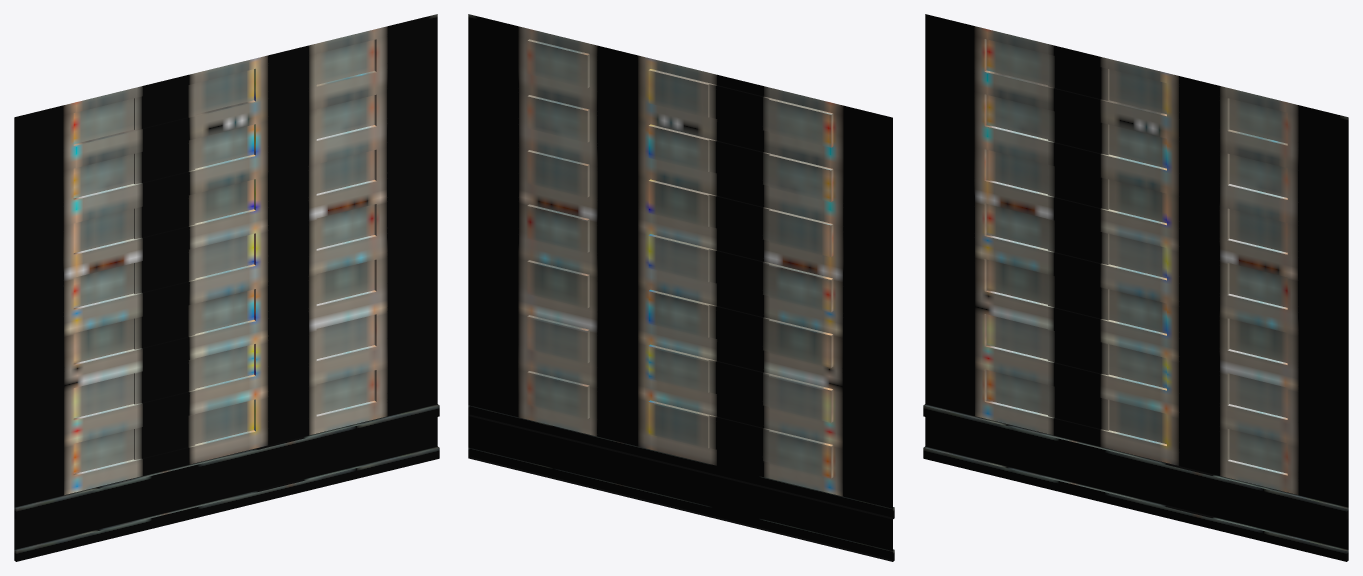
File: Pagoda_Body_Tile_2500x2500_A.FBX
3 views of the same model, side by side, from view 1: azimuth 30°, elevation 25°; view 2: azimuth 150°, elevation 25°; view 3: azimuth 330°, elevation 25° (orthographic).
Visible parts, largest first — view 1: Geometry_Pagoda_Body_Tile_2500x2500_A_LOD00; view 2: Geometry_Pagoda_Body_Tile_2500x2500_A_LOD00; view 3: Geometry_Pagoda_Body_Tile_2500x2500_A_LOD00.
Boxes of the visible parts, box(x1,y1,x2,y2) form: Geometry_Pagoda_Body_Tile_2500x2500_A_LOD00: box(14, 14, 439, 561); Geometry_Pagoda_Body_Tile_2500x2500_A_LOD00: box(468, 14, 894, 561); Geometry_Pagoda_Body_Tile_2500x2500_A_LOD00: box(923, 14, 1348, 561).
Size of what is drawn, in the model's own units: 2500 by 2500 by 40.
